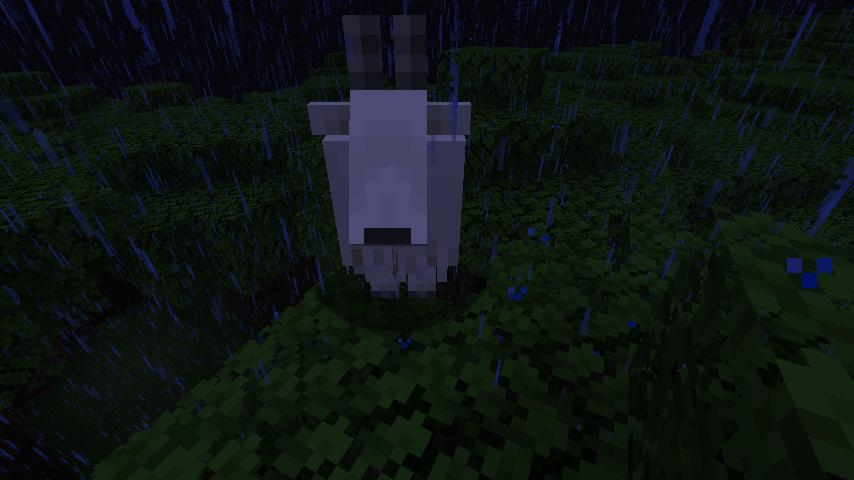goat: (308, 8, 477, 302)
